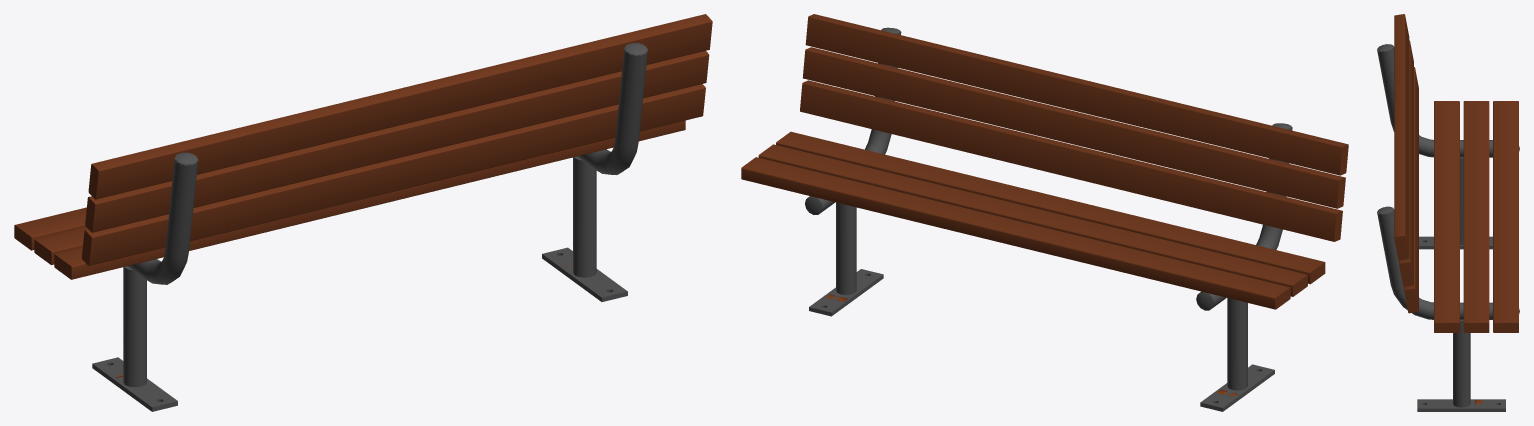
3 renders of one model, left to right at view 1: azimuth 30°, elevation 25°; view 2: azimuth 150°, elevation 25°; view 3: azimuth 270°, elevation 25°, orthographic. The views are drawn at different scales.
Parts seen in each view (by area): view 1: mesh21_mesh21-geometry, mesh3_mesh3-geometry, mesh5_mesh5-geometry, mesh4_mesh4-geometry; view 2: mesh21_mesh21-geometry, mesh5_mesh5-geometry, mesh4_mesh4-geometry, mesh3_mesh3-geometry; view 3: mesh21_mesh21-geometry, mesh3_mesh3-geometry, mesh5_mesh5-geometry, mesh4_mesh4-geometry, mesh1_mesh1-geometry.
Part boxes in pixels (left/top/right/bottom): mesh21_mesh21-geometry: left=14, top=14, right=712, bottom=279; mesh3_mesh3-geometry: left=128, top=45, right=647, bottom=284; mesh5_mesh5-geometry: left=123, top=156, right=596, bottom=387; mesh4_mesh4-geometry: left=92, top=247, right=627, bottom=411; mesh21_mesh21-geometry: left=741, top=14, right=1348, bottom=309; mesh5_mesh5-geometry: left=836, top=202, right=1247, bottom=390; mesh4_mesh4-geometry: left=809, top=269, right=1274, bottom=411; mesh3_mesh3-geometry: left=805, top=31, right=1292, bottom=310; mesh21_mesh21-geometry: left=1394, top=14, right=1518, bottom=332; mesh3_mesh3-geometry: left=1377, top=46, right=1492, bottom=319; mesh5_mesh5-geometry: left=1453, top=157, right=1470, bottom=407; mesh4_mesh4-geometry: left=1417, top=236, right=1505, bottom=411; mesh1_mesh1-geometry: left=1377, top=44, right=1393, bottom=214.
Size of the model in its own units: 0.8935 by 0.3774 by 0.2432.
